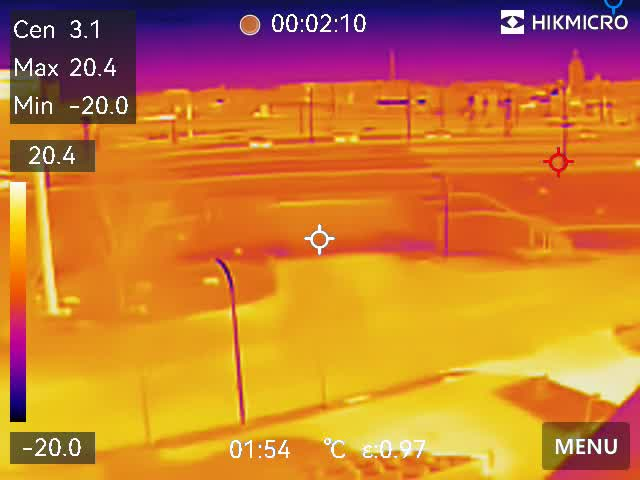vehicle: (415, 128, 453, 143), (330, 130, 360, 148), (247, 134, 275, 149)
